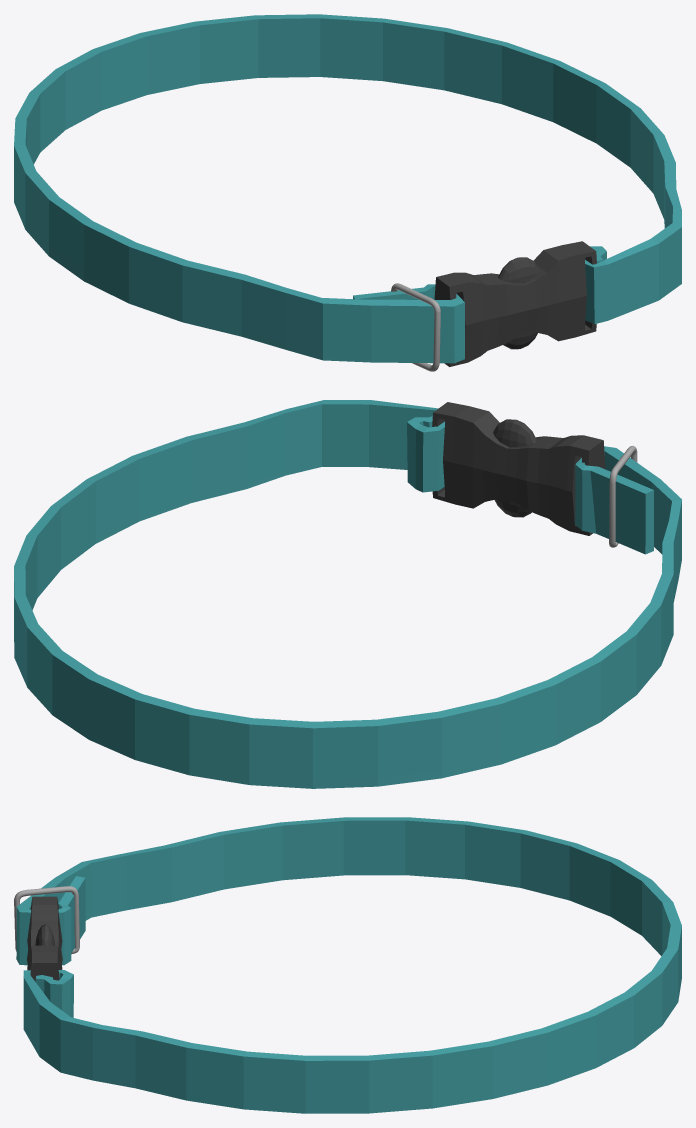
The model's file is NewCollar.fbx.
3 renders of one model, top to bottom at view 1: azimuth 30°, elevation 25°; view 2: azimuth 150°, elevation 25°; view 3: azimuth 270°, elevation 25°, orthographic. The views are drawn at different scales.
Parts seen in each view (by area): view 1: catCollar; view 2: catCollar; view 3: catCollar.
Boxes of the visible parts, x1=… form: catCollar: x1=14, y1=14, x2=681, y2=371; catCollar: x1=14, y1=400, x2=681, y2=788; catCollar: x1=14, y1=817, x2=681, y2=1113.
Bounding box in the file's own units: 757 × 123 × 877.
